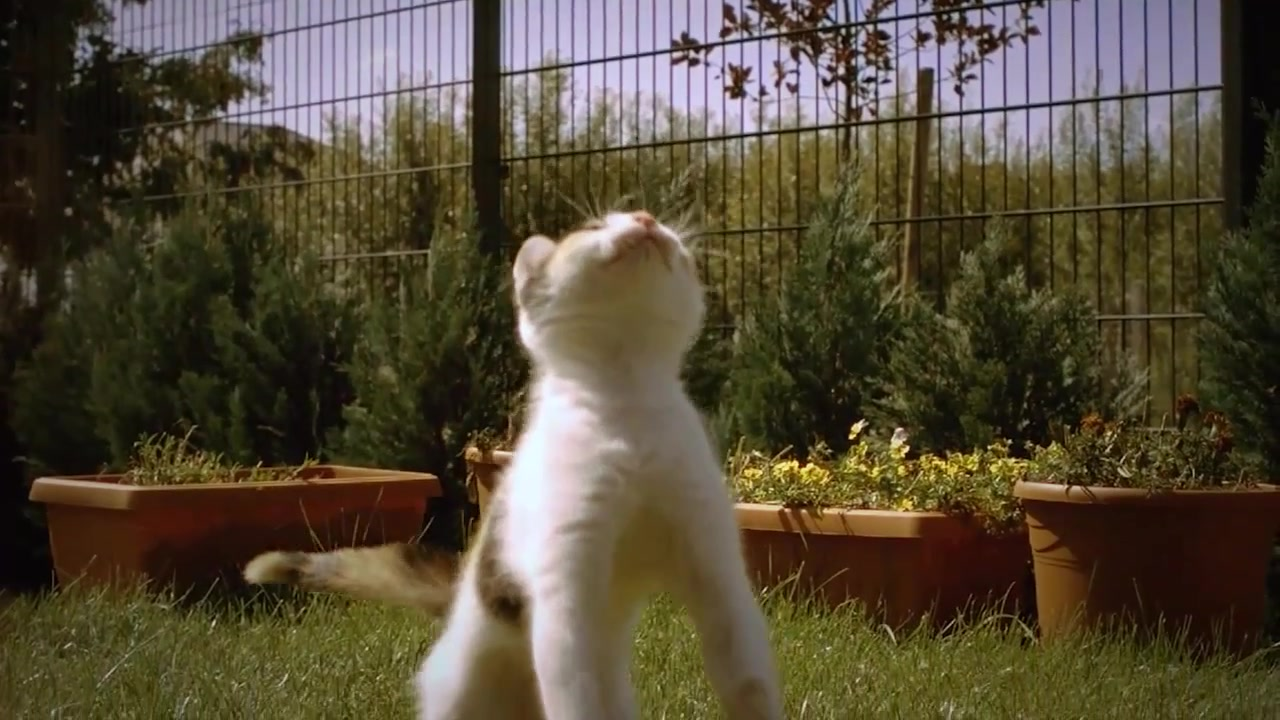cat: (242, 203, 782, 720)
